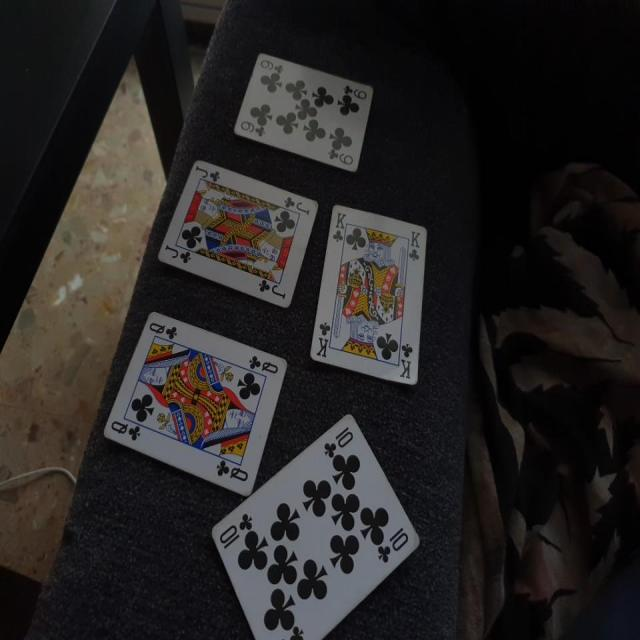10 Trefoils: (210, 410, 423, 640)
9 Trefoils: (230, 52, 374, 172)
J Trefoils: (155, 160, 318, 309)
K Trefoils: (311, 205, 429, 383)
Q Trefoils: (101, 312, 289, 499)
